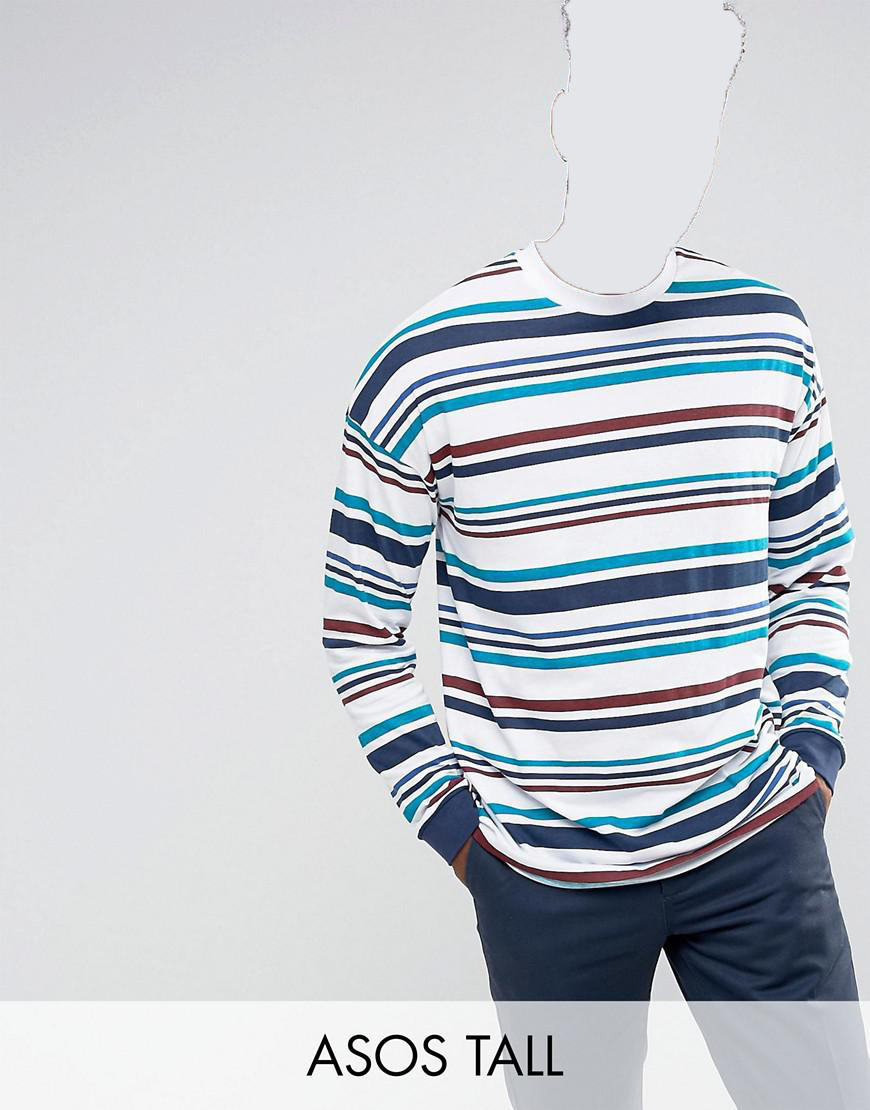teeshirt: (315, 244, 870, 898)
